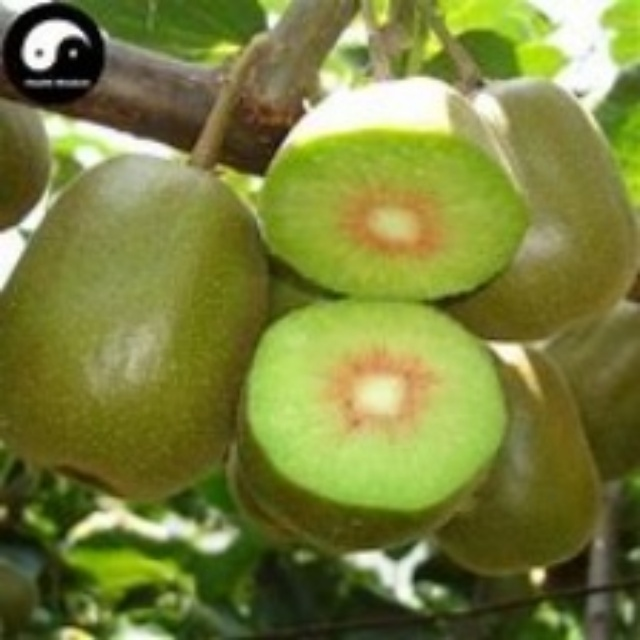kiwi: (263, 73, 518, 545), (8, 150, 273, 509), (452, 59, 639, 348), (477, 318, 639, 584)
